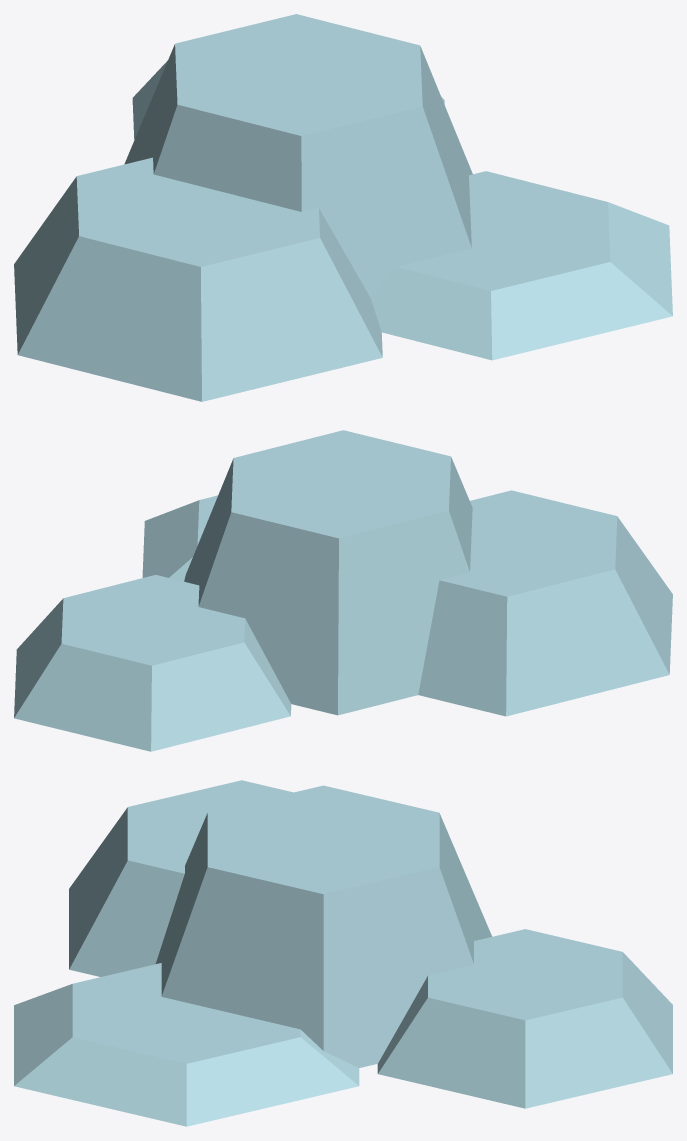
The model's file is snow_detail_rocks.fbx.
3 views of the same model, one above another, from view 1: azimuth 30°, elevation 25°; view 2: azimuth 150°, elevation 25°; view 3: azimuth 270°, elevation 25° (orthographic). The views are drawn at different scales.
Parts seen in each view (by area): view 1: snow_detail_rocks; view 2: snow_detail_rocks; view 3: snow_detail_rocks.
Boxes of the visible parts, box(x1,y1,x2,y2) form: snow_detail_rocks: box(14, 14, 672, 401); snow_detail_rocks: box(14, 430, 672, 751); snow_detail_rocks: box(14, 780, 672, 1126).
Size of the model in its own units: 6 by 1.55 by 6.
